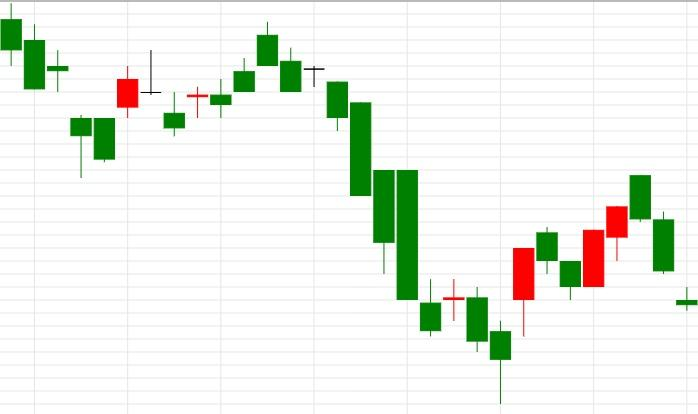hammer_rise: (0, 3, 93, 178)
three_black_crows_fall: (559, 175, 698, 310)
